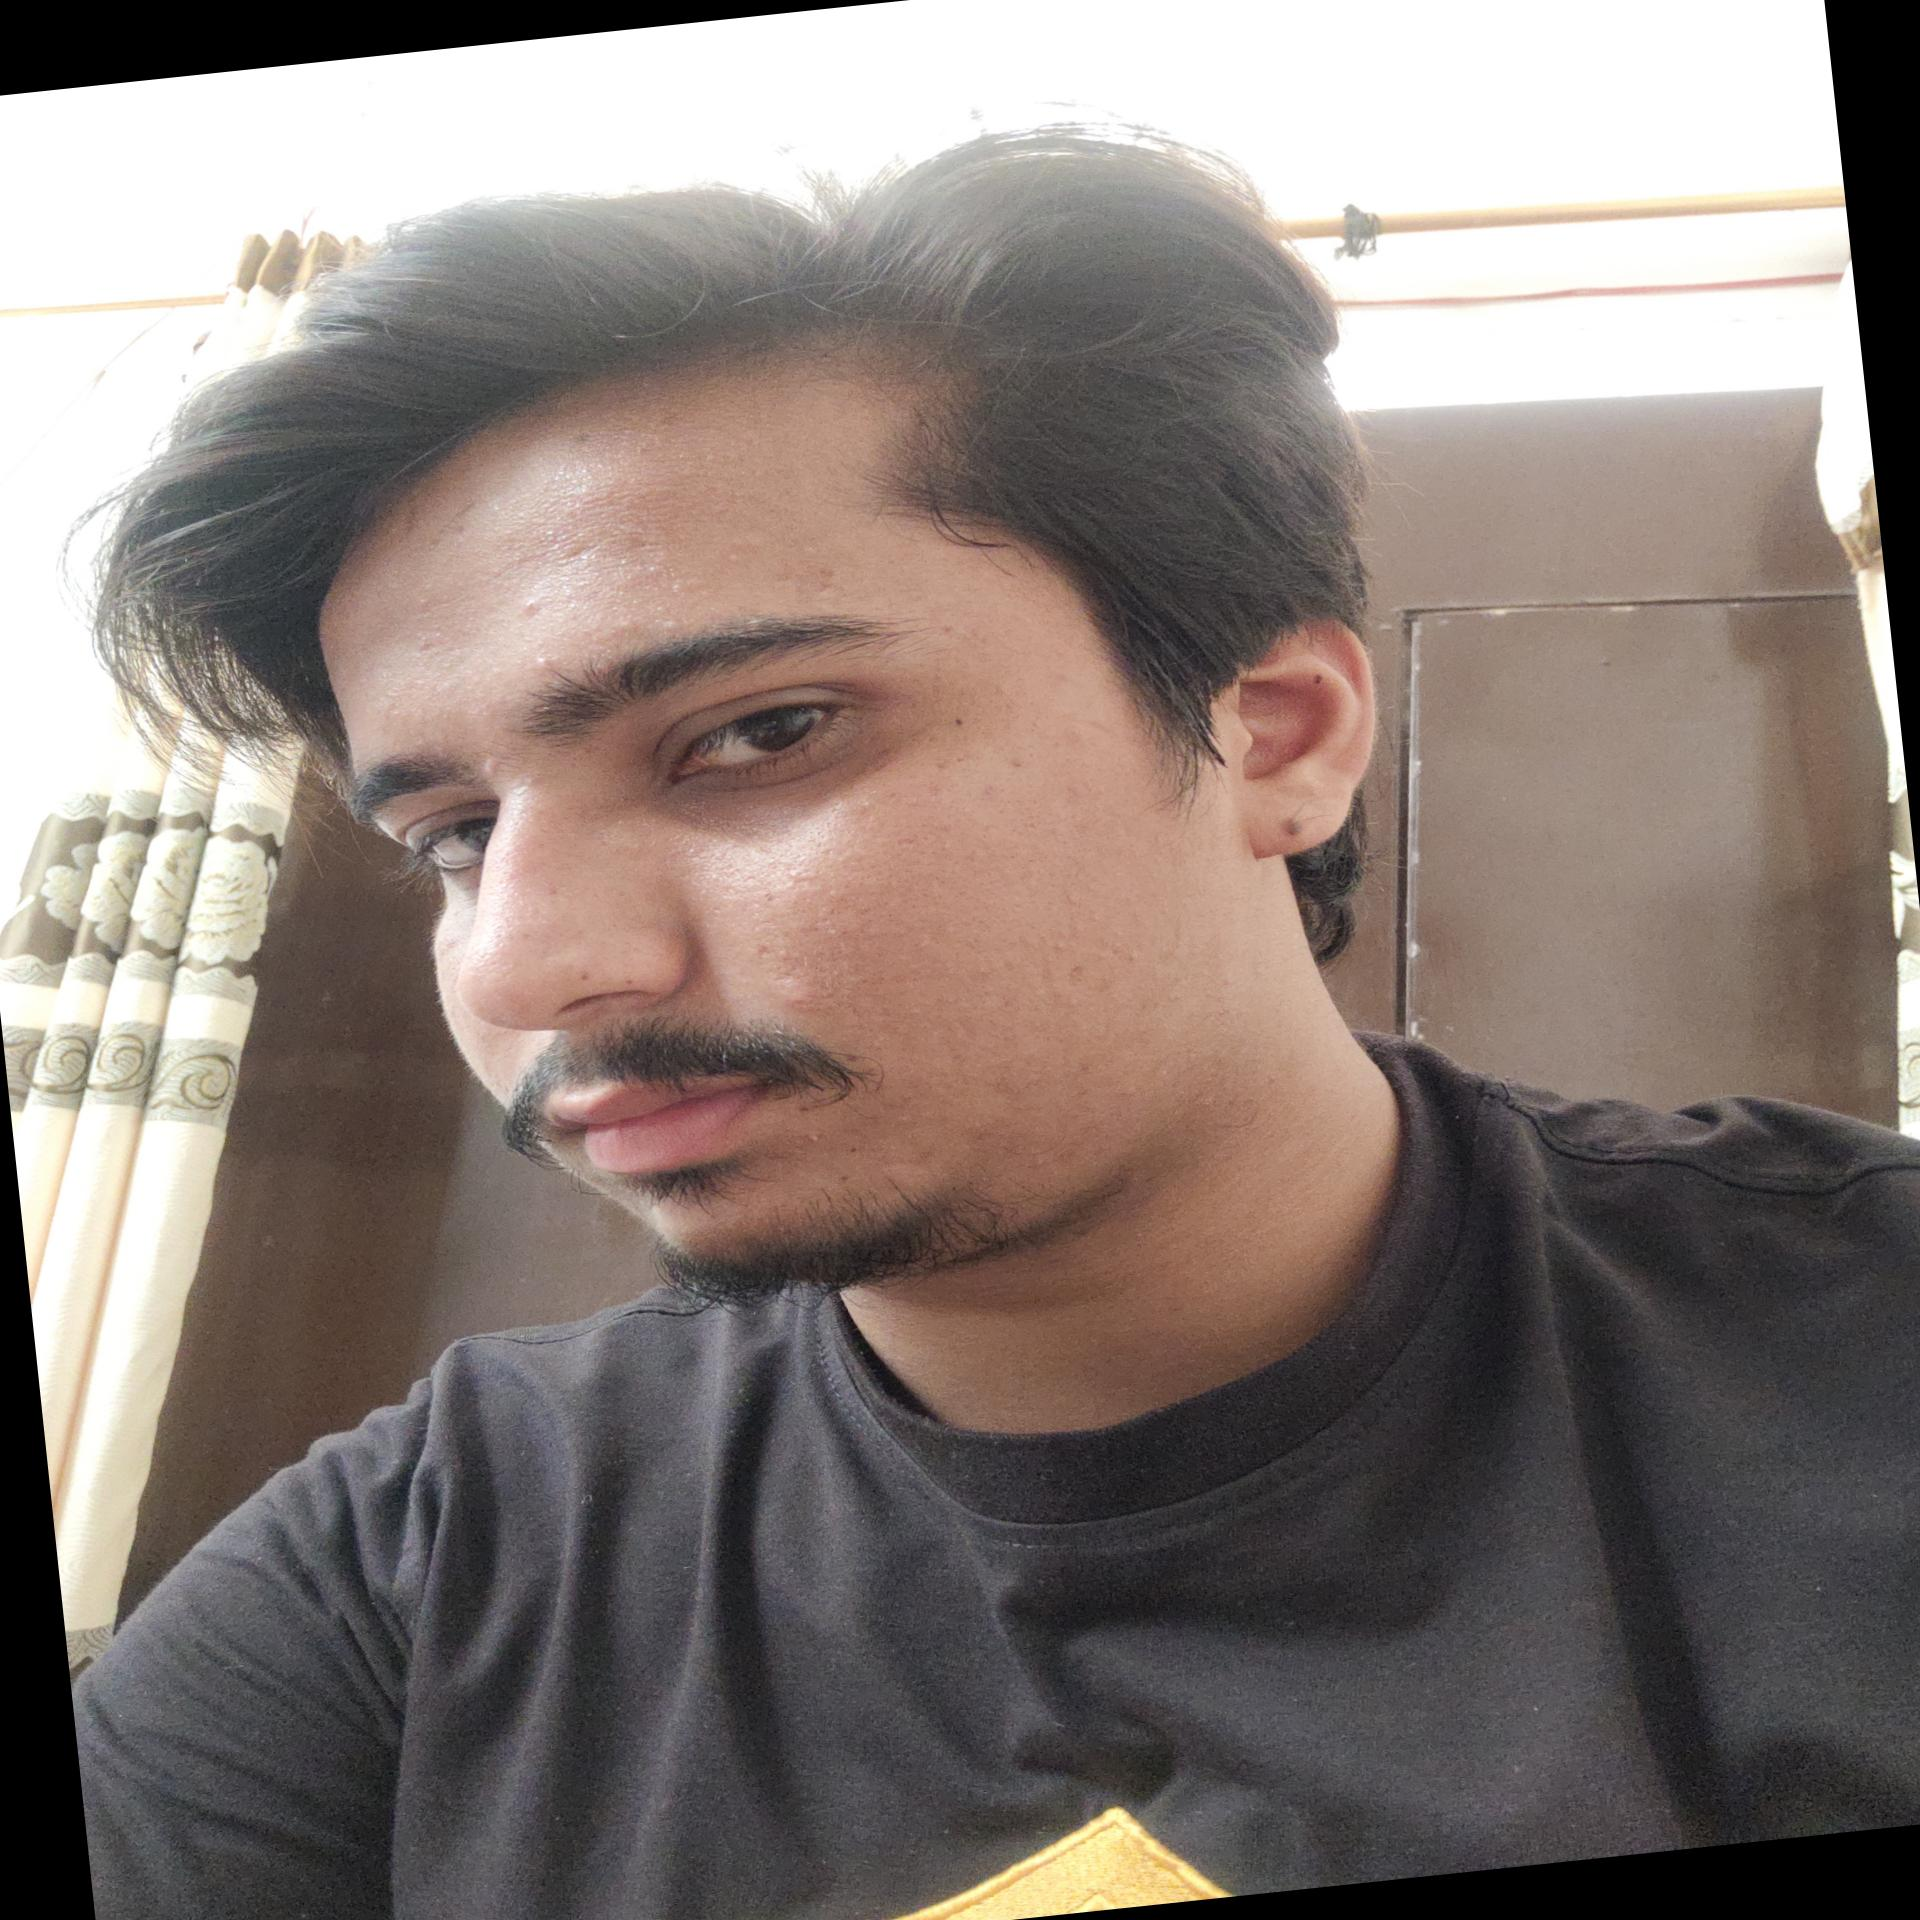Acne: (476, 753, 506, 782), (515, 593, 547, 617), (782, 992, 816, 1015), (531, 652, 559, 673), (800, 1129, 826, 1148)
Dark Circles: (640, 726, 921, 847)
Englarged Pores: (786, 811, 1048, 1007)
